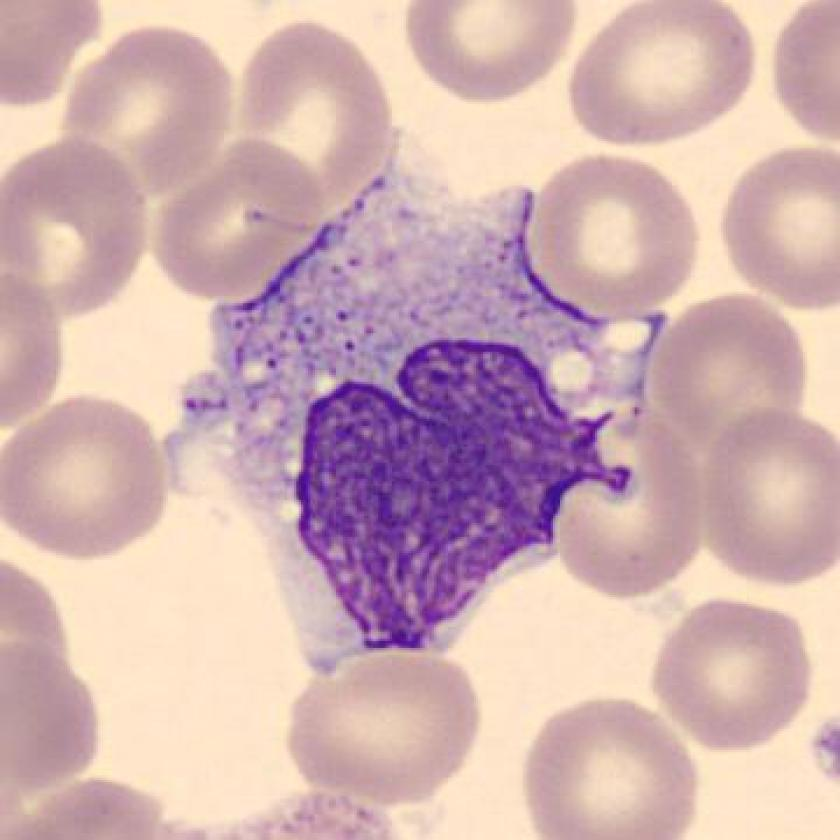monocyte: (150, 124, 678, 688)
